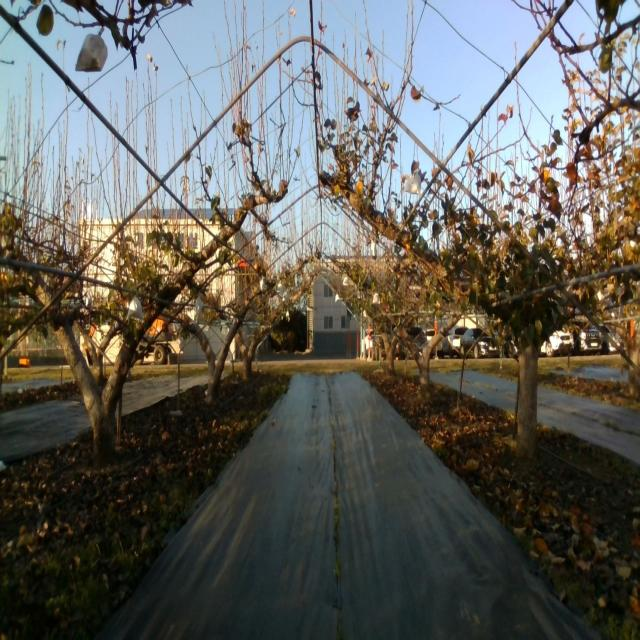pearbags: (75, 33, 108, 73), (402, 172, 422, 199), (126, 296, 144, 323)
